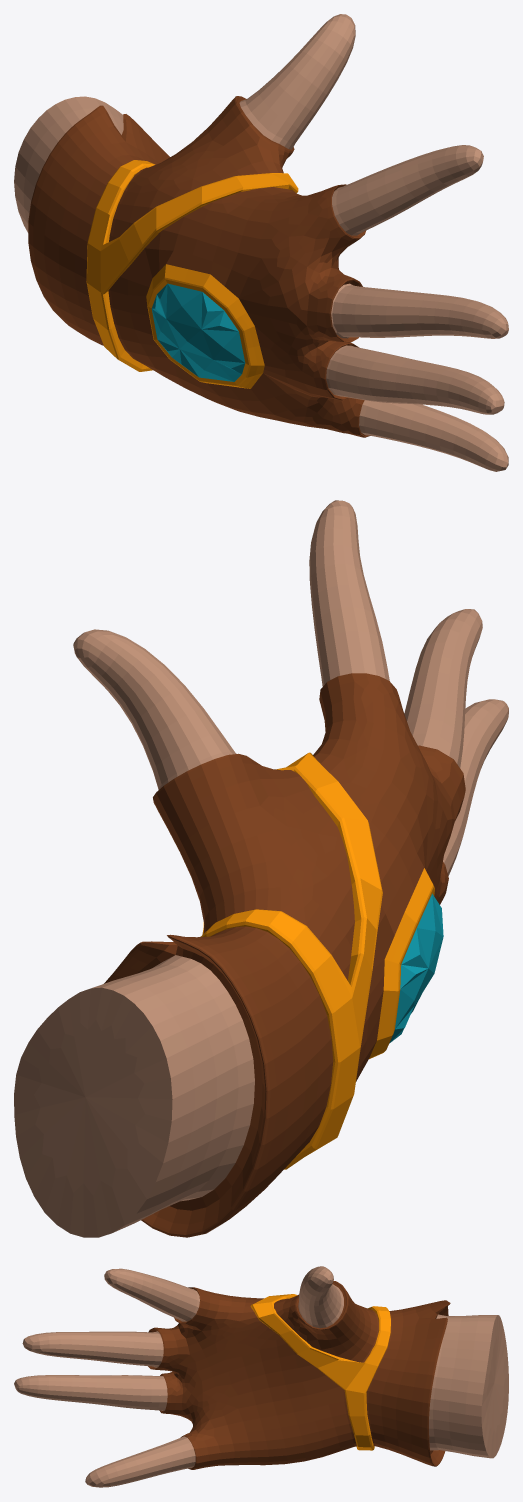
The model's file is HandSmoooth.fbx.
3 renders of one model, top to bottom at view 1: azimuth 30°, elevation 25°; view 2: azimuth 150°, elevation 25°; view 3: azimuth 270°, elevation 25°, orthographic. The views are drawn at different scales.
Visible parts, largest first — view 1: USub_Arm.001, USub_Arm.002; view 2: USub_Arm.001, USub_Arm.002; view 3: USub_Arm.001, USub_Arm.002.
Part boxes in pixels (<box>): USub_Arm.001: <box>14,14,508,471</box>; USub_Arm.002: <box>86,160,298,371</box>; USub_Arm.001: <box>14,500,508,1237</box>; USub_Arm.002: <box>200,752,382,1169</box>; USub_Arm.001: <box>14,1266,508,1487</box>; USub_Arm.002: <box>250,1294,390,1450</box>.
Bounding box in the file's own units: 9.83 × 14.08 × 26.58.
